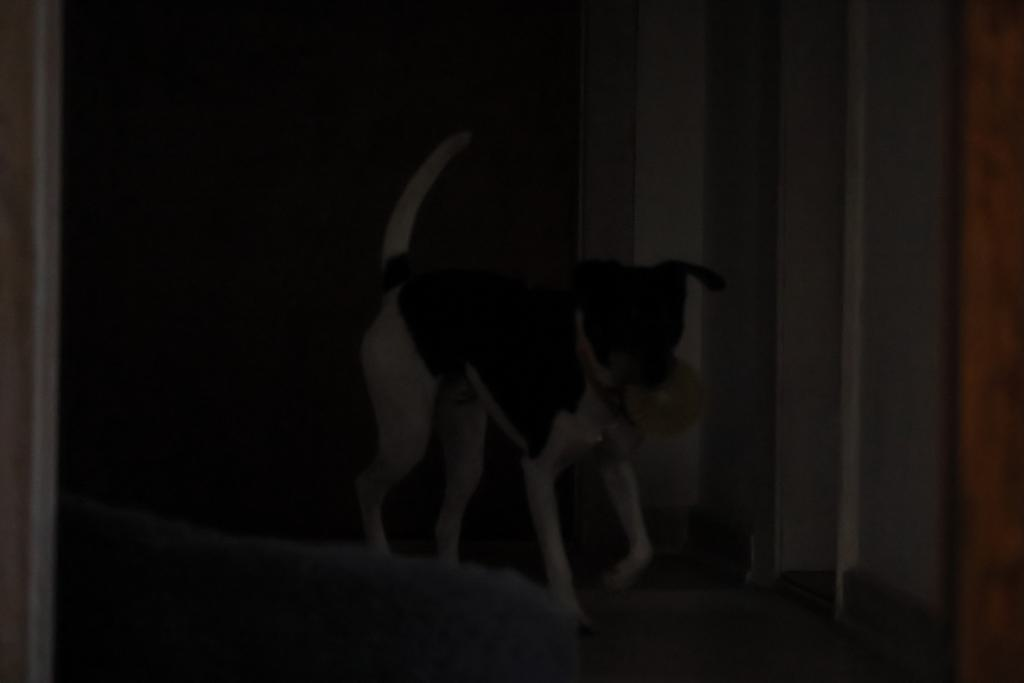Dog: (324, 95, 744, 628)
